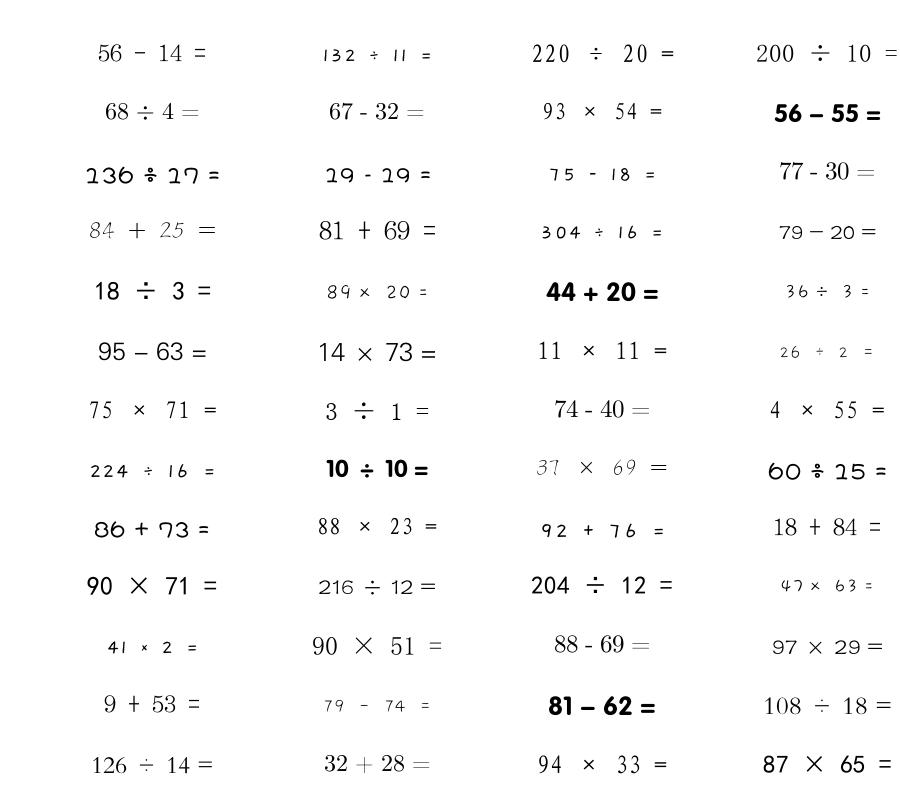MQ: (531, 44, 674, 63), (531, 576, 673, 595), (87, 576, 217, 596), (756, 44, 898, 62), (537, 341, 667, 360), (312, 636, 442, 655), (537, 755, 667, 774), (84, 166, 220, 184), (317, 342, 437, 362), (319, 220, 436, 240), (88, 401, 217, 419), (763, 697, 892, 715), (763, 755, 892, 773), (89, 221, 216, 239), (546, 282, 659, 302), (536, 459, 668, 476), (94, 281, 211, 300), (542, 102, 662, 120), (317, 517, 437, 535), (548, 696, 656, 716), (768, 462, 887, 480), (774, 103, 881, 123), (91, 757, 214, 774), (769, 401, 885, 419), (98, 342, 207, 361), (324, 754, 431, 773), (94, 521, 210, 538), (98, 44, 206, 62), (773, 518, 881, 536), (326, 459, 428, 478), (539, 523, 666, 538), (325, 402, 429, 420), (89, 464, 216, 478), (318, 580, 436, 595), (540, 225, 664, 239), (329, 102, 425, 120), (779, 162, 875, 180), (554, 400, 650, 418), (554, 635, 650, 653), (104, 695, 200, 713), (105, 102, 200, 120), (326, 284, 428, 300), (324, 168, 431, 183), (772, 640, 883, 654), (323, 699, 432, 713), (322, 49, 433, 62), (548, 168, 657, 181), (779, 225, 876, 239), (779, 345, 875, 359), (780, 579, 874, 593), (784, 284, 870, 299), (106, 641, 199, 654)
